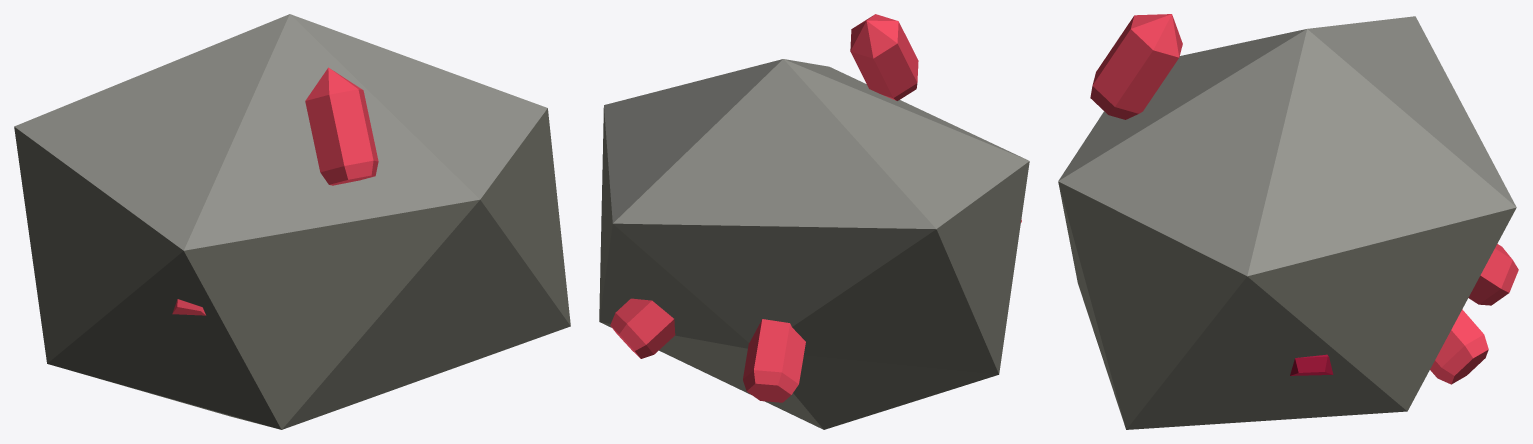
Rendered from RubyOre.fbx.
3 views of the same model, side by side, from view 1: azimuth 30°, elevation 25°; view 2: azimuth 150°, elevation 25°; view 3: azimuth 270°, elevation 25° (orthographic). The views are drawn at different scales.
Visible parts, largest first — view 1: RubyOre; view 2: RubyOre; view 3: RubyOre.
Boxes of the visible parts, bbox=[...] form: RubyOre: bbox=[14, 14, 570, 429]; RubyOre: bbox=[599, 14, 1029, 429]; RubyOre: bbox=[1058, 14, 1518, 429].
Bounding box in the file's own units: 3.75 × 3.02 × 3.09.
1 material, 1 textured.
